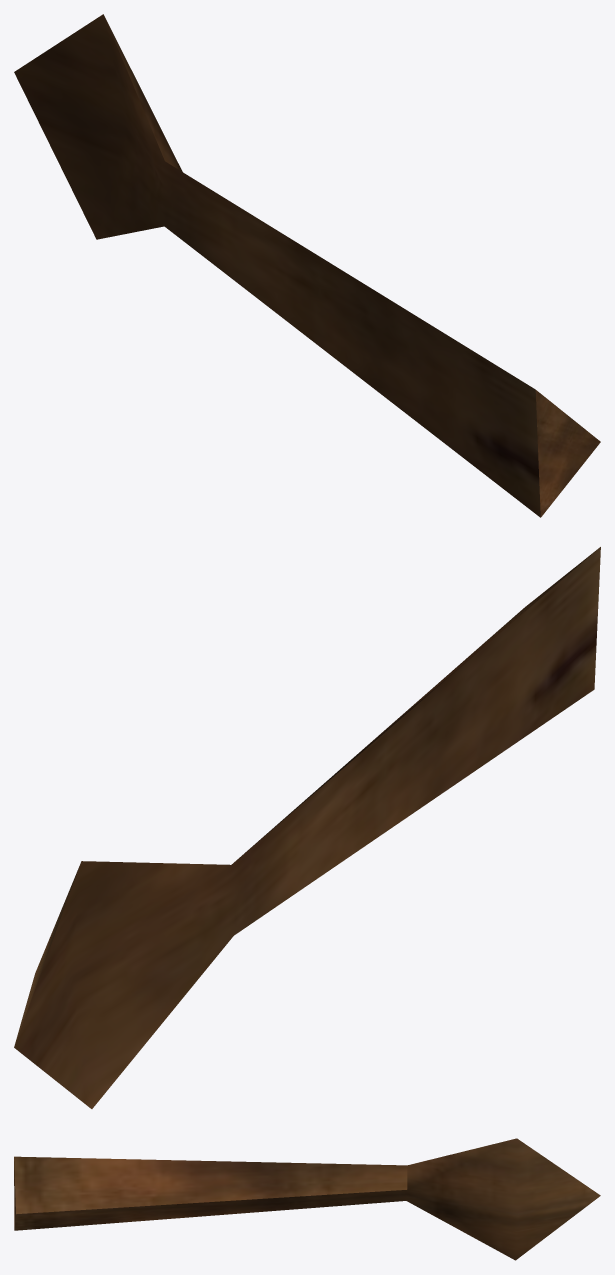
The model's file is wooden_spoon.fbx.
3 renders of one model, top to bottom at view 1: azimuth 30°, elevation 25°; view 2: azimuth 150°, elevation 25°; view 3: azimuth 270°, elevation 25°, orthographic. The views are drawn at different scales.
Parts seen in each view (by area): view 1: lod_high; view 2: lod_high; view 3: lod_high.
Boxes of the visible parts, x1=… form: lod_high: x1=14, y1=14, x2=600, y2=517; lod_high: x1=14, y1=547, x2=600, y2=1108; lod_high: x1=14, y1=1138, x2=600, y2=1260.
Bounding box in the file's own units: 12.61 × 30.75 × 131.
1 material, 1 textured.
